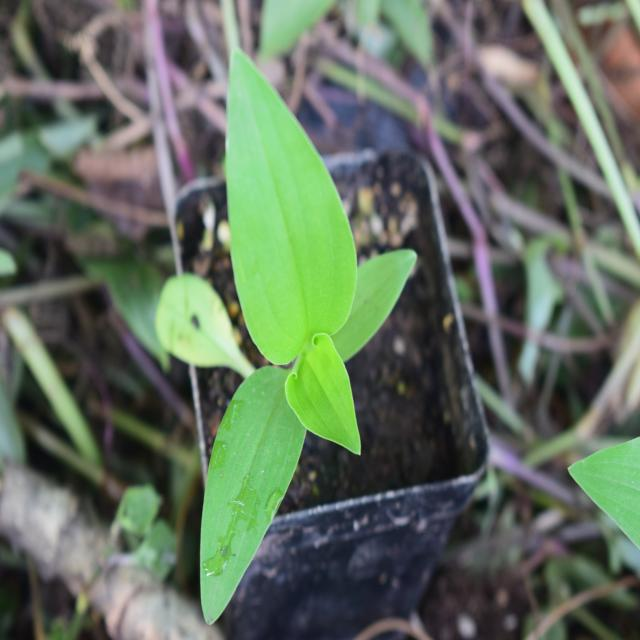Common Dayflower: (180, 23, 390, 598)
